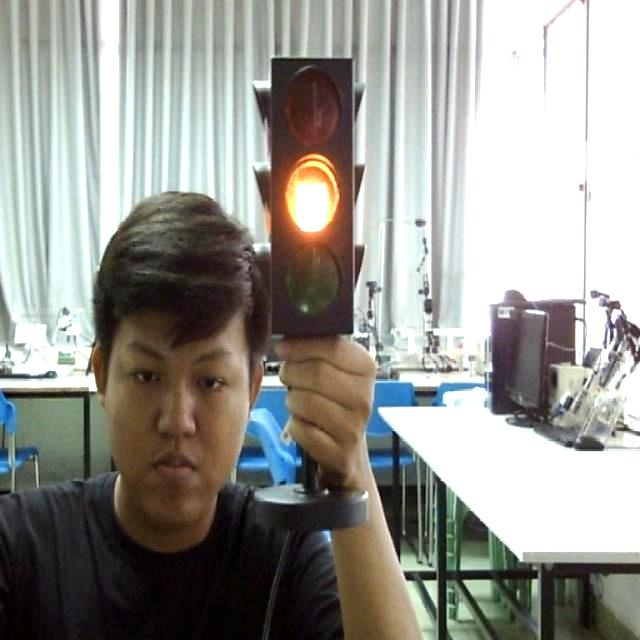Yellow: (256, 53, 372, 338)
